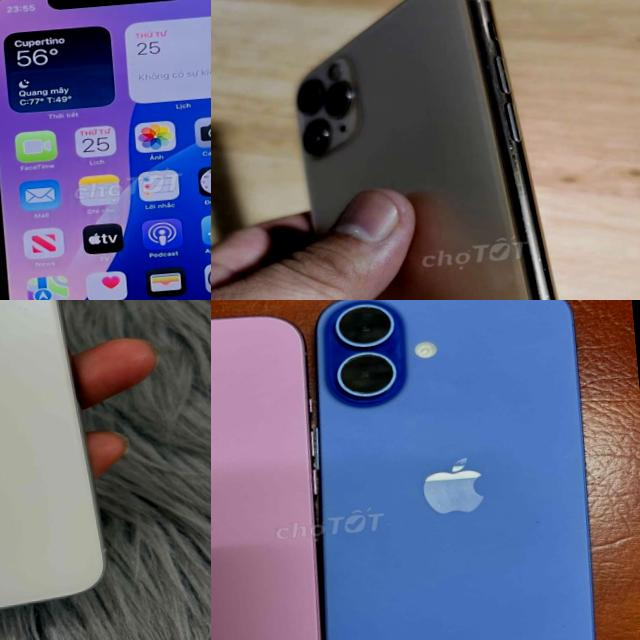scratch: (524, 285, 568, 300), (538, 251, 559, 282), (502, 139, 528, 160), (478, 62, 497, 73)
